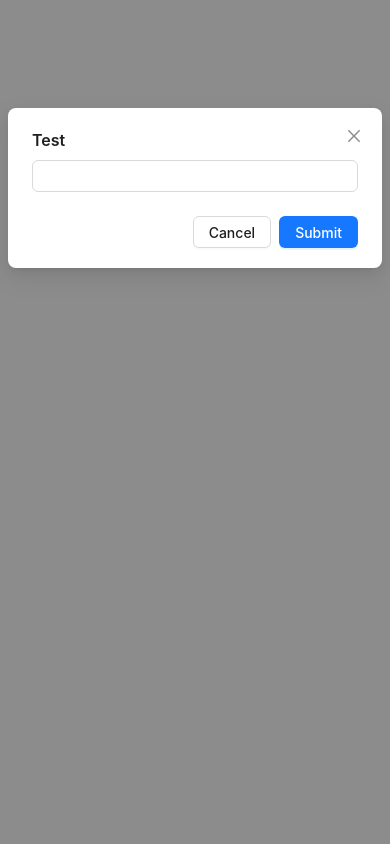
FormModal › resets form on cancel when resetOnCancel is true
Type "Test" into the field with test id "name-input" at (195, 176), box [32, 160, 358, 192]
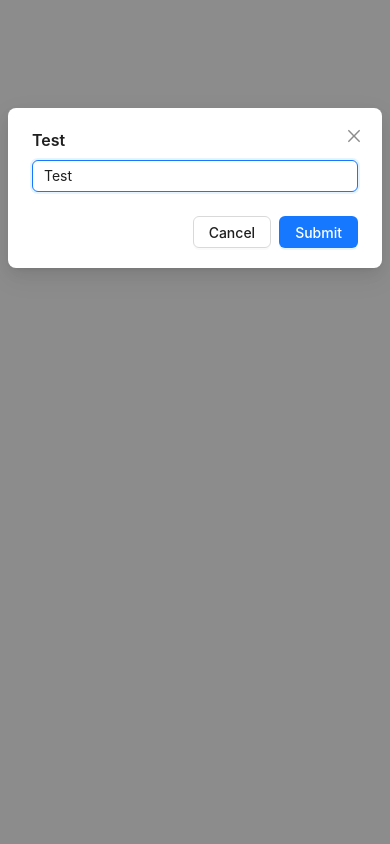
Click the button "Cancel" at (232, 232), box [193, 216, 271, 248]
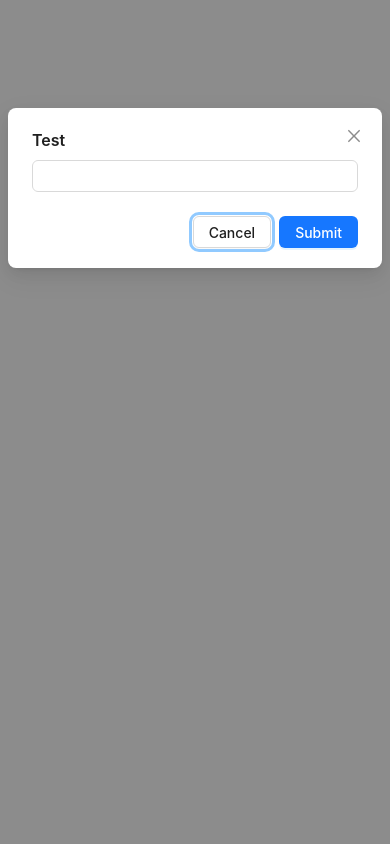
Check: the field with test id "name-input" is empty, box [32, 160, 358, 192]
